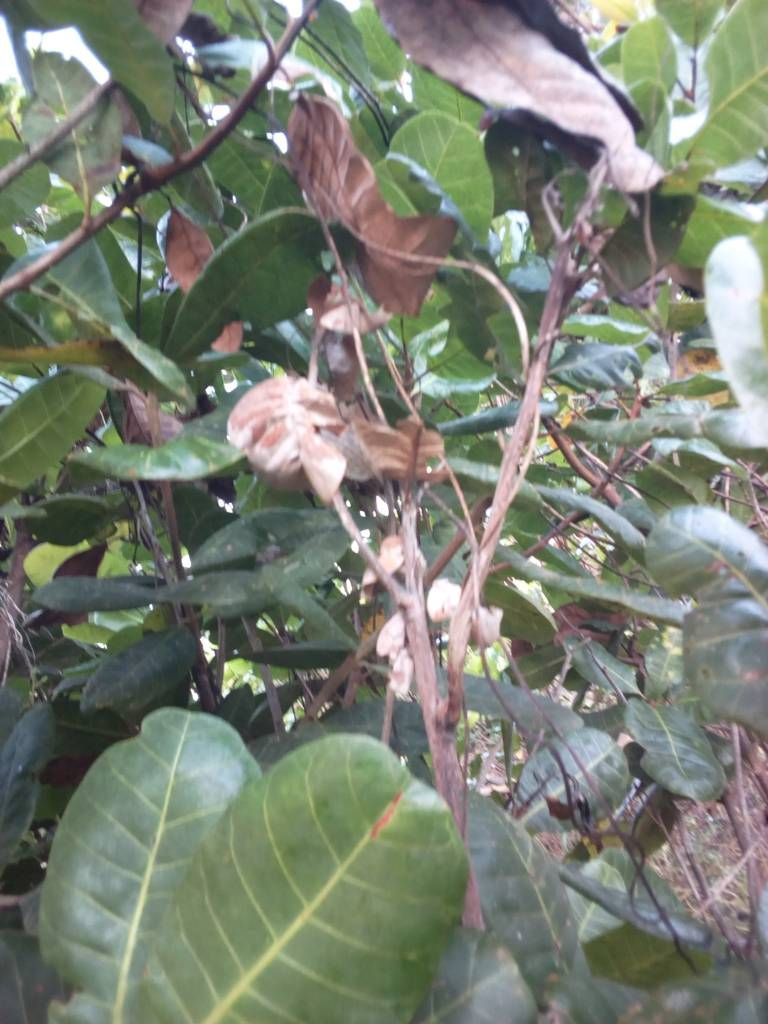Dessèchement des bourgeons: (538, 754, 640, 856), (177, 52, 243, 132)
